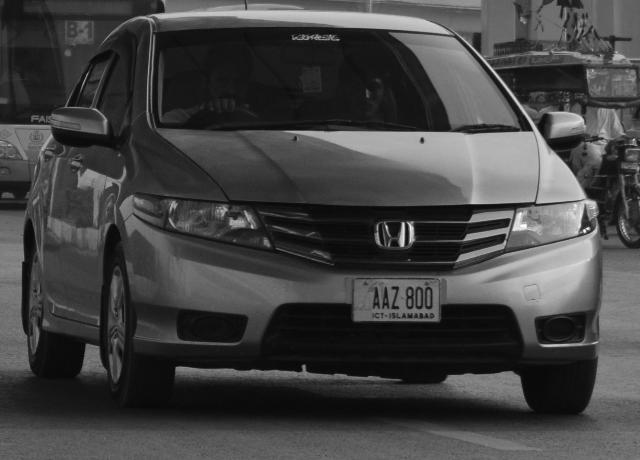Number: (370, 284, 436, 312)
